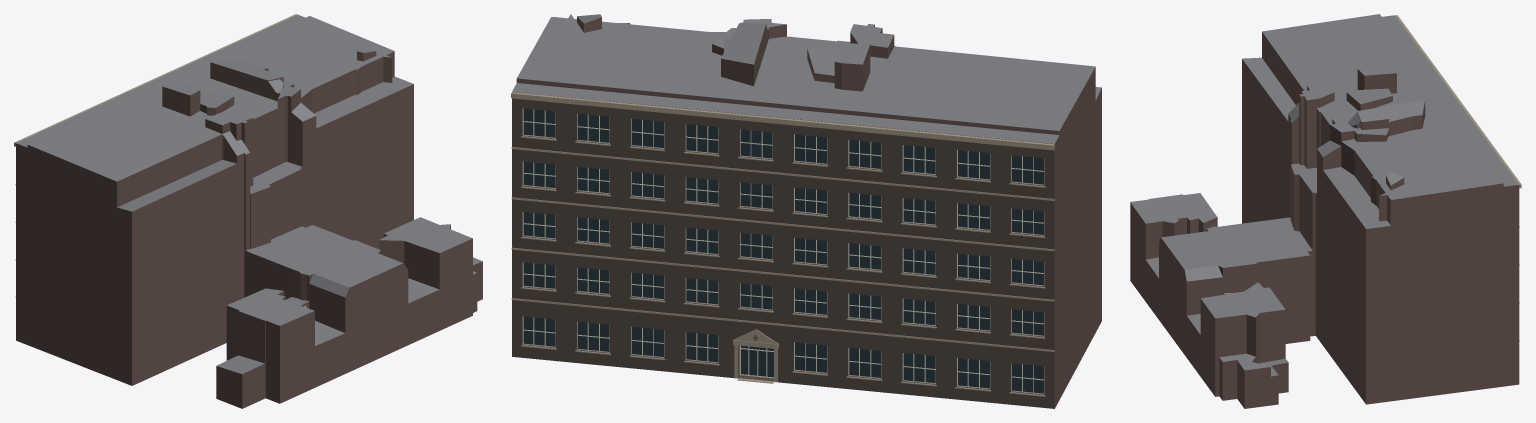
Rendered from recipe-large-nieuwe-achtergracht-100-253824.glb.
The picture shows the model from 3 angles, left to right: view 1: azimuth 30°, elevation 25°; view 2: azimuth 150°, elevation 25°; view 3: azimuth 270°, elevation 25°; orthographic projection. The views are drawn at different scales.
Visible parts, largest first — view 1: nieuwe-achtergracht-100-253824; view 2: nieuwe-achtergracht-100-253824; view 3: nieuwe-achtergracht-100-253824.
Boxes of the visible parts, x1,y1,x2,y2 form: nieuwe-achtergracht-100-253824: (14, 14, 482, 408); nieuwe-achtergracht-100-253824: (511, 14, 1101, 408); nieuwe-achtergracht-100-253824: (1130, 14, 1521, 408).
Bounding box in the file's own units: 49.72 × 26.64 × 42.34.
